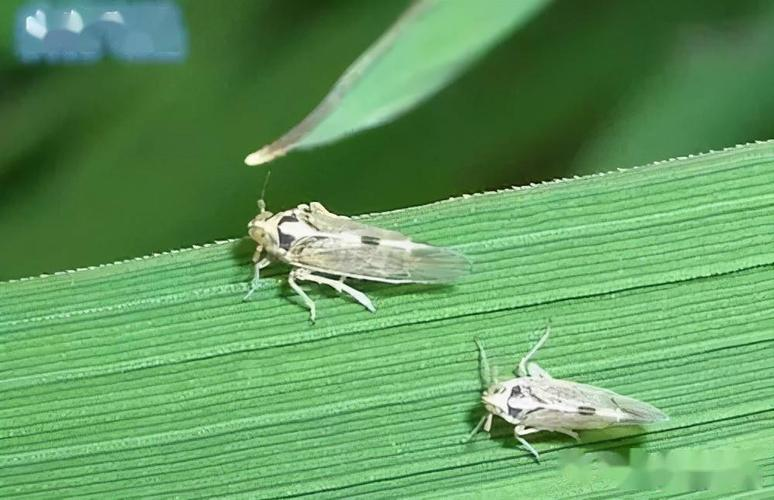Delphacidae: (240, 170, 472, 328), (458, 321, 670, 466)
